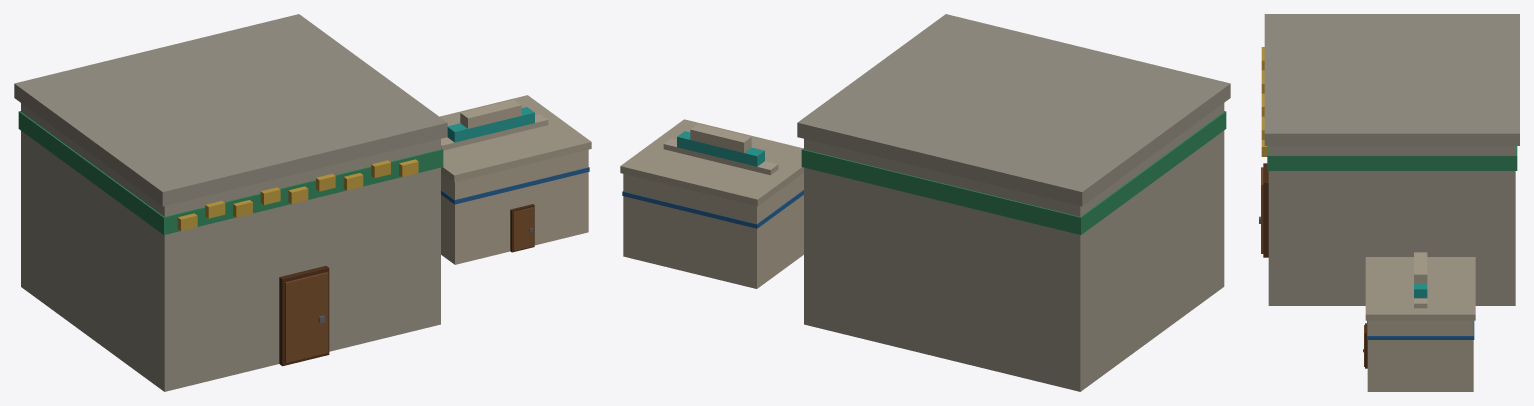
The model's file is frog_hall_broken.glb.
3 renders of one model, left to right at view 1: azimuth 30°, elevation 25°; view 2: azimuth 150°, elevation 25°; view 3: azimuth 270°, elevation 25°, orthographic. The views are drawn at different scales.
Parts seen in each view (by area): view 1: frog_hall_piece2, frog_hall_piece0, frog_hall_piece7, frog_hall_piece11, frog_hall_piece3, frog_hall_piece5, frog_hall_piece9, frog_hall_piece12, frog_hall_piece13, frog_hall_piece4, frog_hall_piece1; view 2: frog_hall_piece5, frog_hall_piece3, frog_hall_piece2, frog_hall_piece1, frog_hall_piece7, frog_hall_piece11, frog_hall_piece0, frog_hall_piece10, frog_hall_piece4, frog_hall_piece13, frog_hall_piece6; view 3: frog_hall_piece3, frog_hall_piece11, frog_hall_piece8, frog_hall_piece9, frog_hall_piece4, frog_hall_piece2, frog_hall_piece0, frog_hall_piece7, frog_hall_piece13, frog_hall_piece10, frog_hall_piece5, frog_hall_piece1 (+1 smaller).
Boxes of the visible parts, x1,y1,x2,y2 form: frog_hall_piece2: (103,101,342,391); frog_hall_piece0: (232,84,447,269); frog_hall_piece7: (14,76,171,350); frog_hall_piece11: (450,95,591,264); frog_hall_piece3: (152,14,389,100); frog_hall_piece5: (18,55,160,339); frog_hall_piece9: (295,80,443,299); frog_hall_piece12: (315,257,440,348); frog_hall_piece13: (126,71,309,131); frog_hall_piece4: (387,81,483,260); frog_hall_piece1: (129,50,213,74); frog_hall_piece5: (967,143,1152,391); frog_hall_piece3: (797,47,944,331); frog_hall_piece2: (1039,53,1230,326); frog_hall_piece1: (845,124,990,368); frog_hall_piece7: (1011,126,1171,338); frog_hall_piece11: (620,119,800,273); frog_hall_piece0: (930,14,1105,88); frog_hall_piece10: (669,137,780,274); frog_hall_piece4: (690,27,930,288); frog_hall_piece13: (935,83,1072,154); frog_hall_piece6: (832,111,960,334); frog_hall_piece3: (1329,72,1519,305); frog_hall_piece11: (1363,258,1475,391); frog_hall_piece8: (1268,185,1418,305); frog_hall_piece9: (1267,103,1405,284); frog_hall_piece4: (1294,124,1446,284); frog_hall_piece2: (1259,14,1421,257); frog_hall_piece0: (1261,61,1390,156); frog_hall_piece7: (1367,14,1519,56); frog_hall_piece13: (1341,52,1484,106); frog_hall_piece10: (1407,189,1510,305); frog_hall_piece5: (1472,22,1519,63); frog_hall_piece1: (1453,62,1519,83).
Size of the model in its own units: 5.11 by 2.03 by 2.76.
